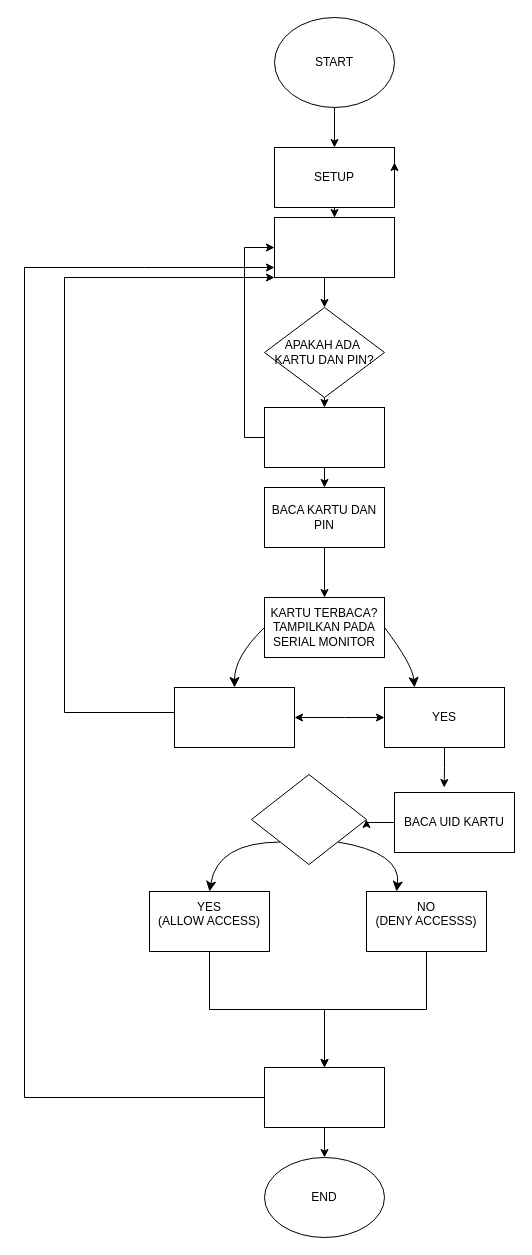
This 532x1255 diagram has some shape labels left out. The shapes that lost their labels are listed below. From the top down, each one's centre as x and y in pixels, then its label:
the point at 334,247: LOOP
the point at 324,437: YES/NO
the point at 234,717: NO
the point at 308,819: CHECK AKSES UID DIIZINKAN?
the point at 324,1097: DELAY
